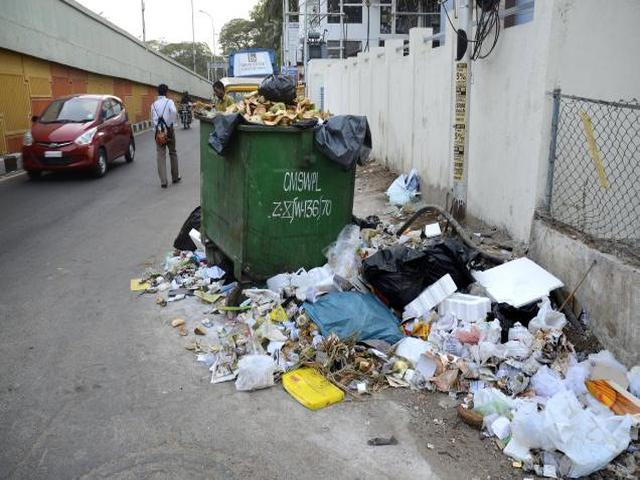garbage: (273, 286, 561, 394)
